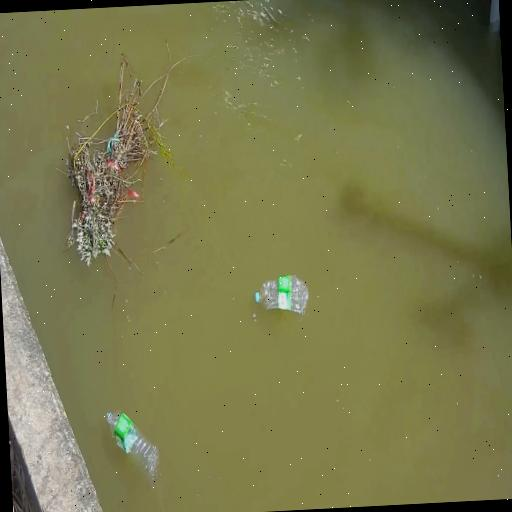plastic: (106, 411, 157, 484), (255, 275, 307, 314), (255, 292, 259, 302)
twig: (66, 54, 176, 266)
